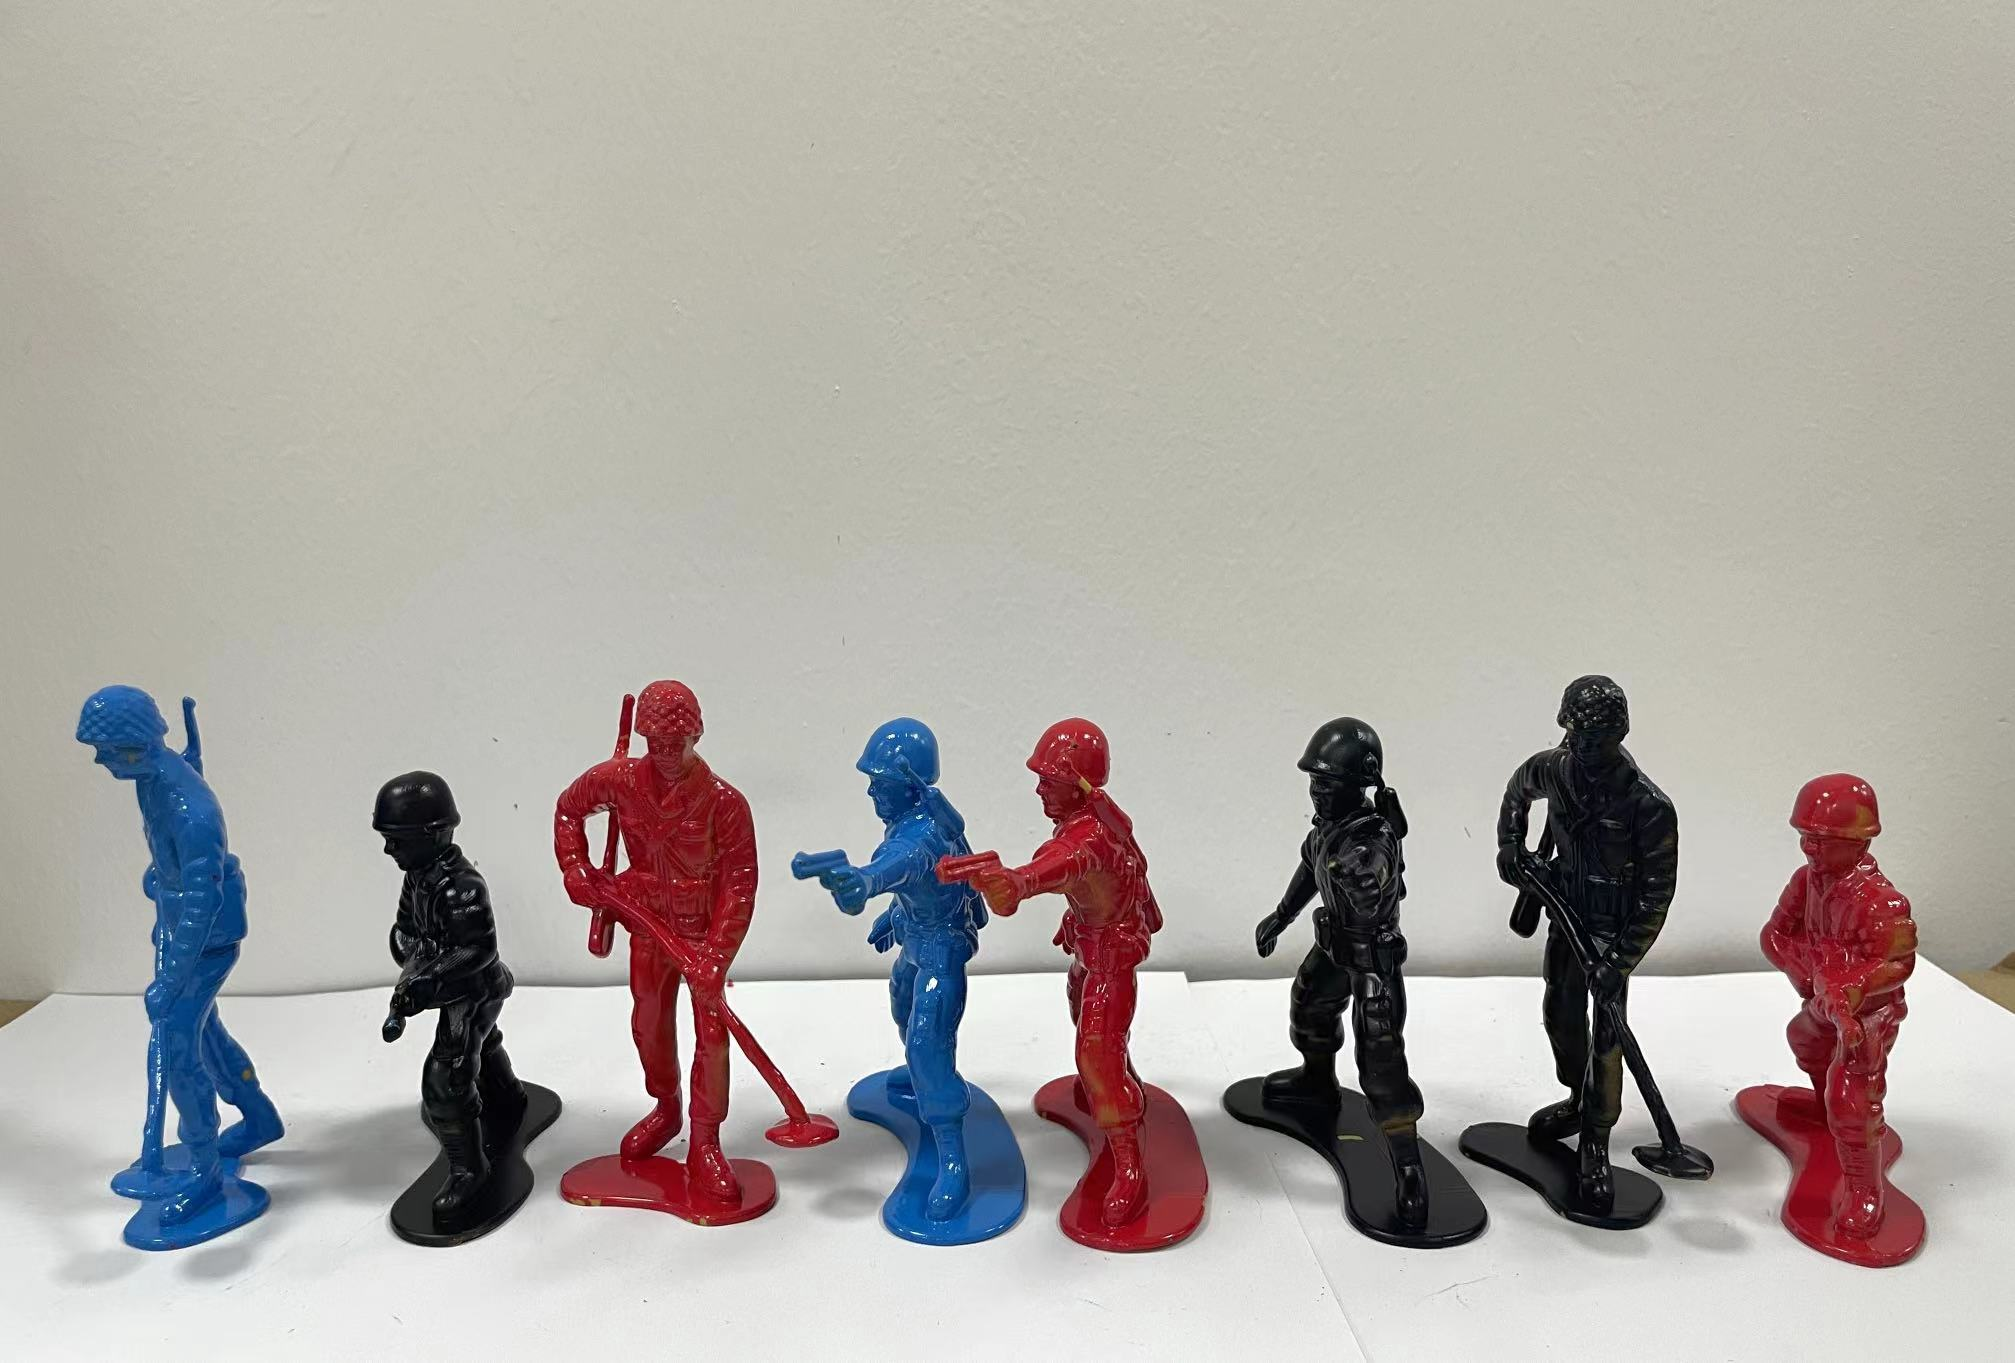black: (1474, 648, 1718, 1279), (1235, 672, 1468, 1266), (322, 716, 563, 1276)
blue: (43, 640, 290, 1288), (779, 701, 1031, 1325)
red: (1735, 729, 2007, 1310), (555, 640, 798, 1288), (970, 694, 1215, 1285)
